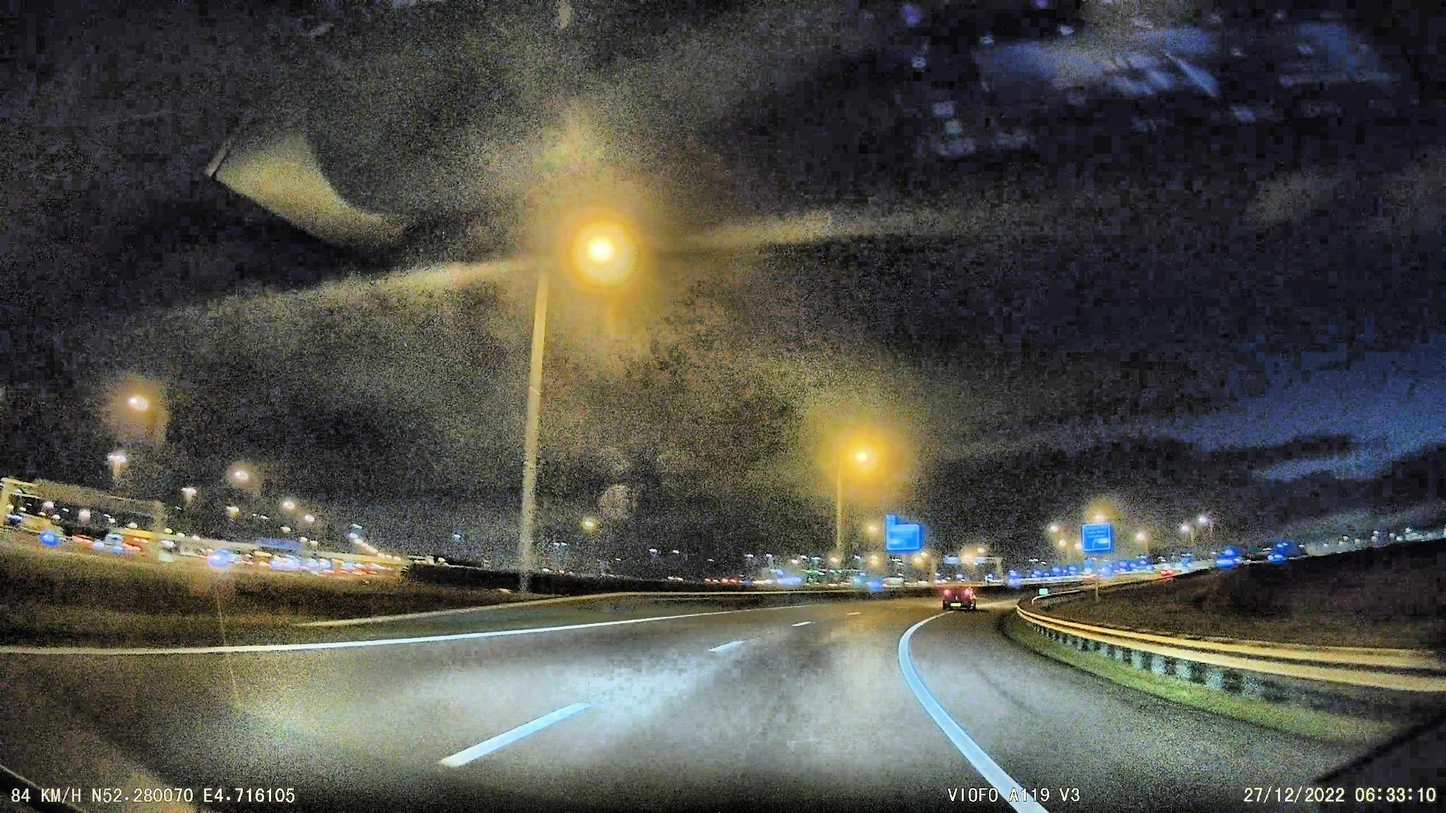Roads: (0, 601, 1305, 813)
